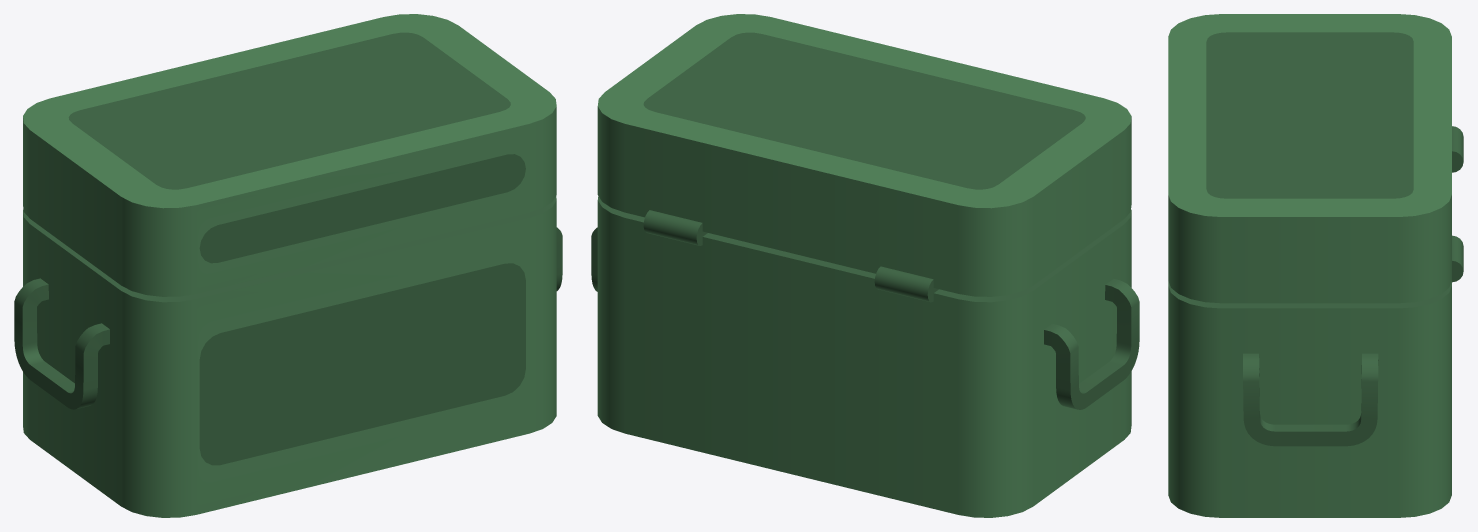
File: Ammo Box A.fbx
The picture shows the model from 3 angles, left to right: view 1: azimuth 30°, elevation 25°; view 2: azimuth 150°, elevation 25°; view 3: azimuth 270°, elevation 25°; orthographic projection. The views are drawn at different scales.
Visible parts, largest first — view 1: Ammo Box, Ammo Box.001; view 2: Ammo Box, Ammo Box.001; view 3: Ammo Box.001, Ammo Box.
Part boxes in pixels (box(x1,y1,x2,y2)): Ammo Box: box(14, 196, 562, 517); Ammo Box.001: box(23, 14, 556, 296); Ammo Box: box(591, 196, 1139, 517); Ammo Box.001: box(597, 14, 1131, 296); Ammo Box.001: box(1168, 14, 1451, 303); Ammo Box: box(1168, 126, 1463, 517).
Size of the model in its own units: 2 by 1.24 by 1.1.
